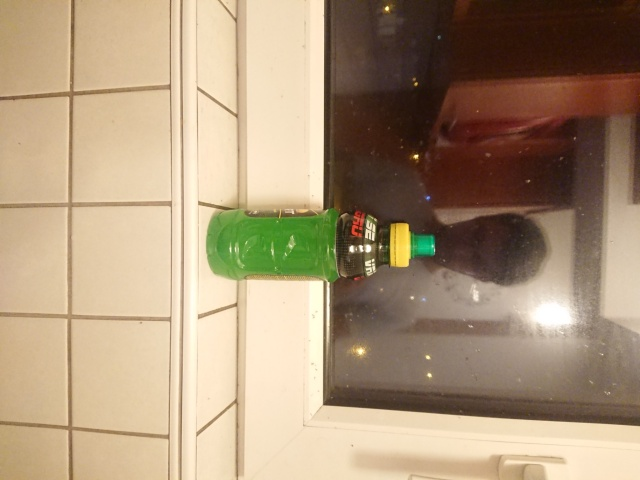Vindi Iso Sport Lemon-Grapefruit 500mL: (203, 204, 438, 286)
